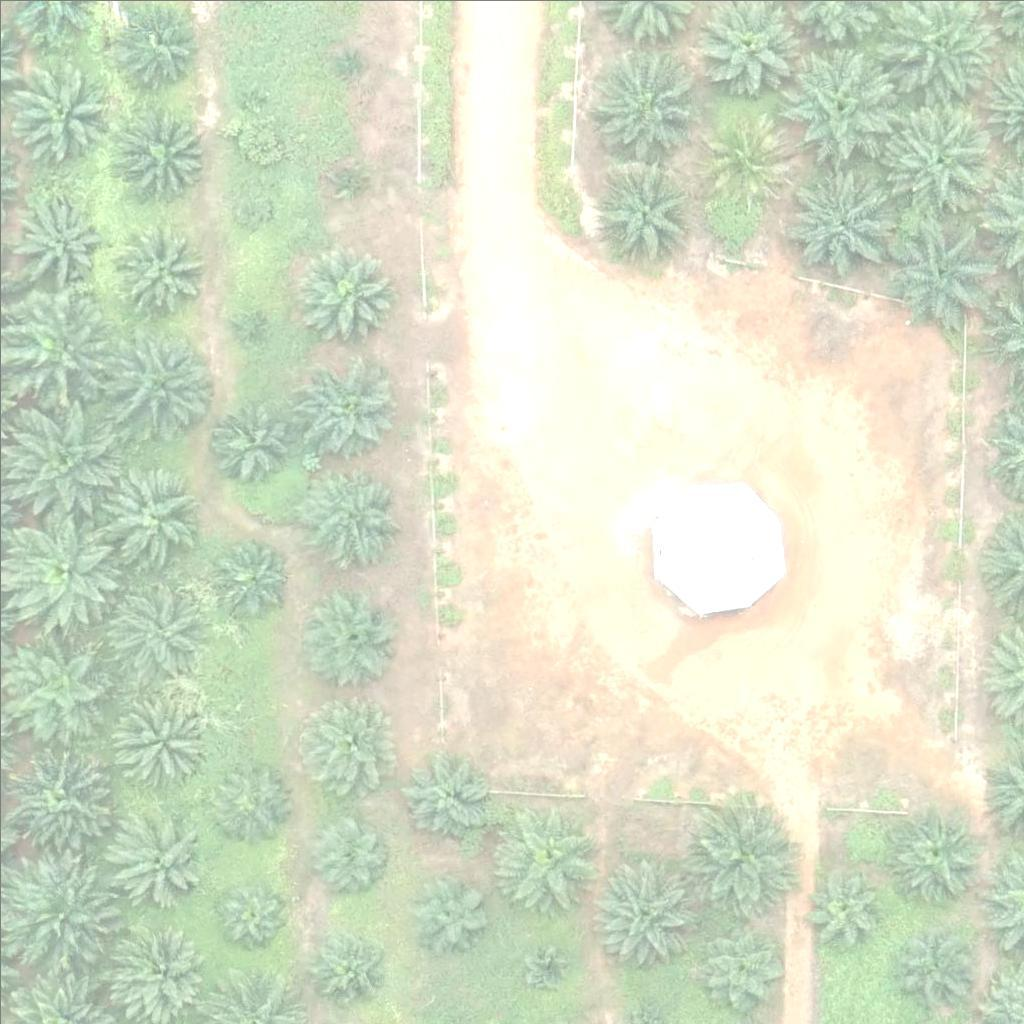Kelapa_Sawit: (103, 326, 216, 440), (779, 163, 892, 277), (781, 47, 894, 161), (881, 212, 994, 326), (680, 802, 793, 915), (489, 801, 601, 915), (4, 398, 116, 512), (1, 292, 113, 406), (882, 106, 994, 220), (588, 852, 700, 965), (4, 630, 116, 743), (5, 509, 117, 622), (585, 49, 697, 162), (303, 467, 403, 568), (111, 918, 211, 1019), (105, 806, 205, 907), (110, 688, 210, 789), (10, 60, 110, 161), (295, 356, 395, 457), (297, 248, 397, 349), (595, 161, 695, 262), (293, 694, 393, 794), (298, 587, 398, 687), (100, 575, 200, 675), (98, 462, 198, 562), (889, 808, 977, 897), (396, 754, 484, 842), (701, 111, 789, 199), (694, 919, 781, 1007), (403, 869, 490, 957), (304, 919, 391, 1007), (307, 810, 394, 898), (205, 755, 292, 843), (13, 195, 100, 283), (113, 228, 200, 316), (120, 106, 207, 194), (207, 399, 294, 487), (893, 921, 968, 997), (212, 539, 287, 615), (807, 871, 882, 946), (214, 876, 289, 951), (522, 942, 572, 993), (231, 186, 269, 224), (231, 314, 256, 339), (235, 84, 260, 109), (335, 164, 360, 189), (335, 51, 360, 76)
